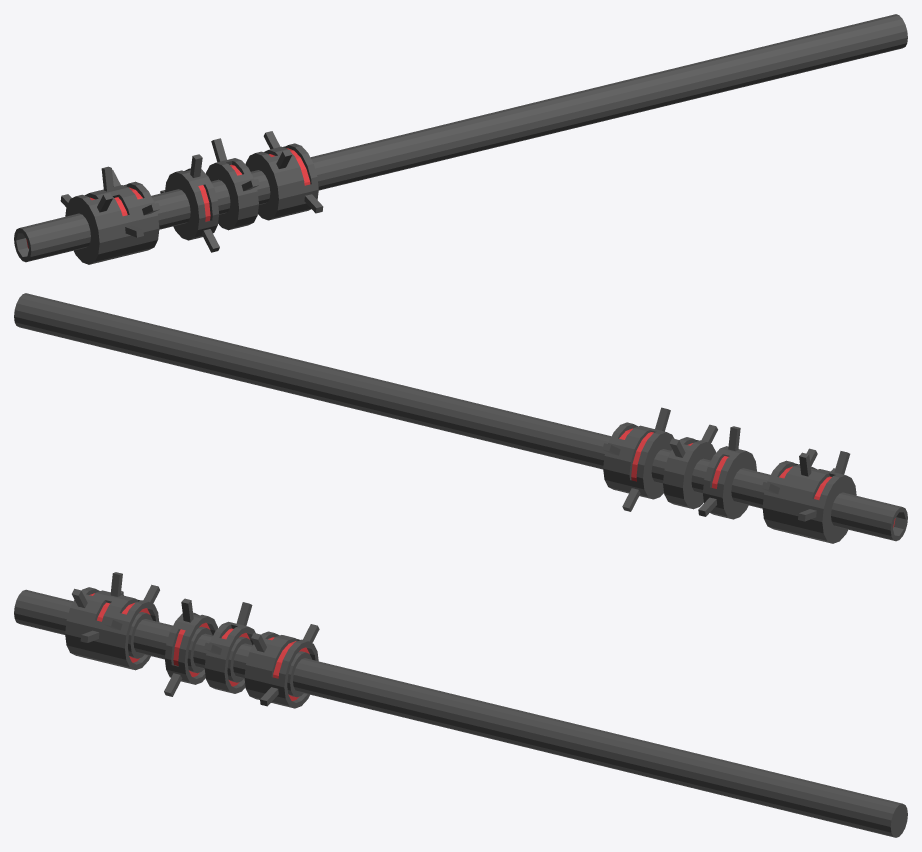
File: Weapons.fbx
3 renders of one model, top to bottom at view 1: azimuth 30°, elevation 25°; view 2: azimuth 150°, elevation 25°; view 3: azimuth 330°, elevation 25°, orthographic.
Visible parts, largest first — view 1: Weapon; view 2: Weapon; view 3: Weapon.
Boxes of the visible parts, box(x1,y1,x2,y2) form: Weapon: box(14, 14, 907, 264); Weapon: box(14, 293, 907, 543); Weapon: box(14, 572, 907, 837).
Size of the model in its own units: 880 by 80.21 by 98.11.
